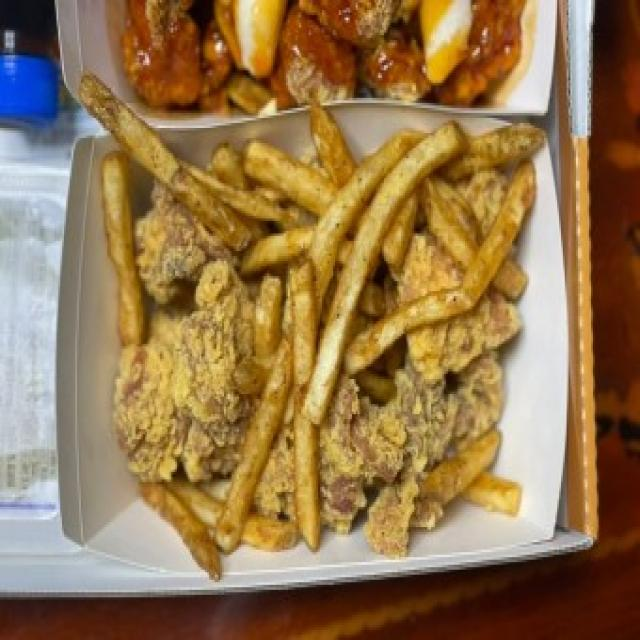Frango: (103, 148, 548, 550)
